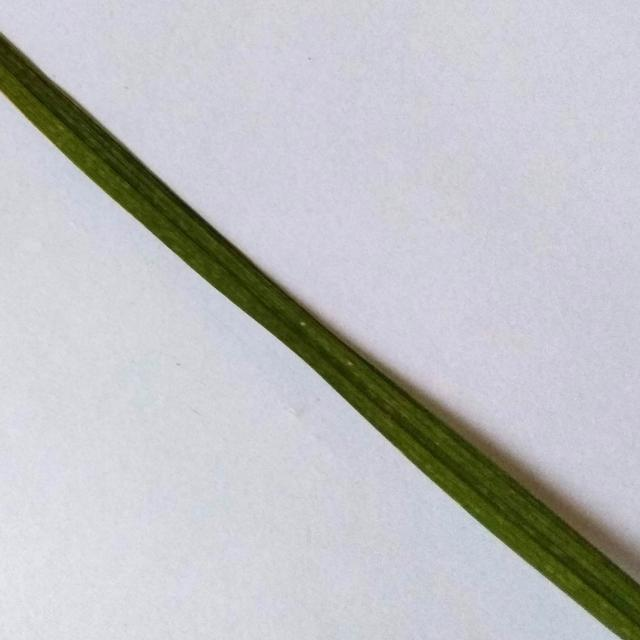Rice_Healthy: (0, 34, 640, 640)
